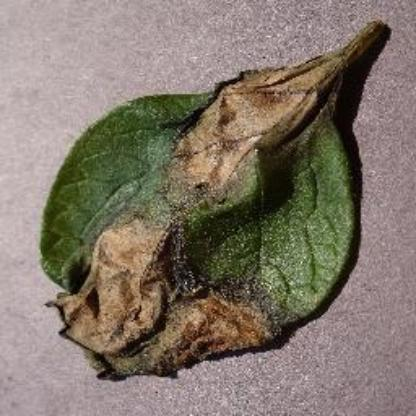Late-Blight: (36, 14, 392, 386)
